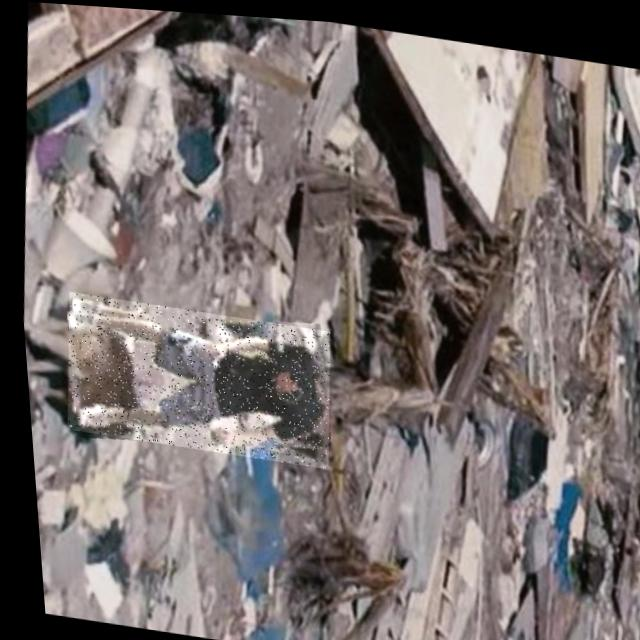Person in Rubble: (51, 290, 332, 465)
